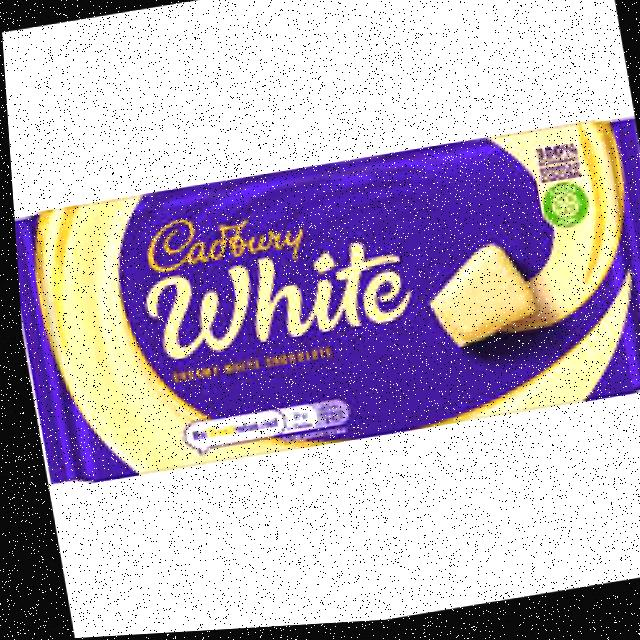cadbury: (8, 118, 640, 497)
